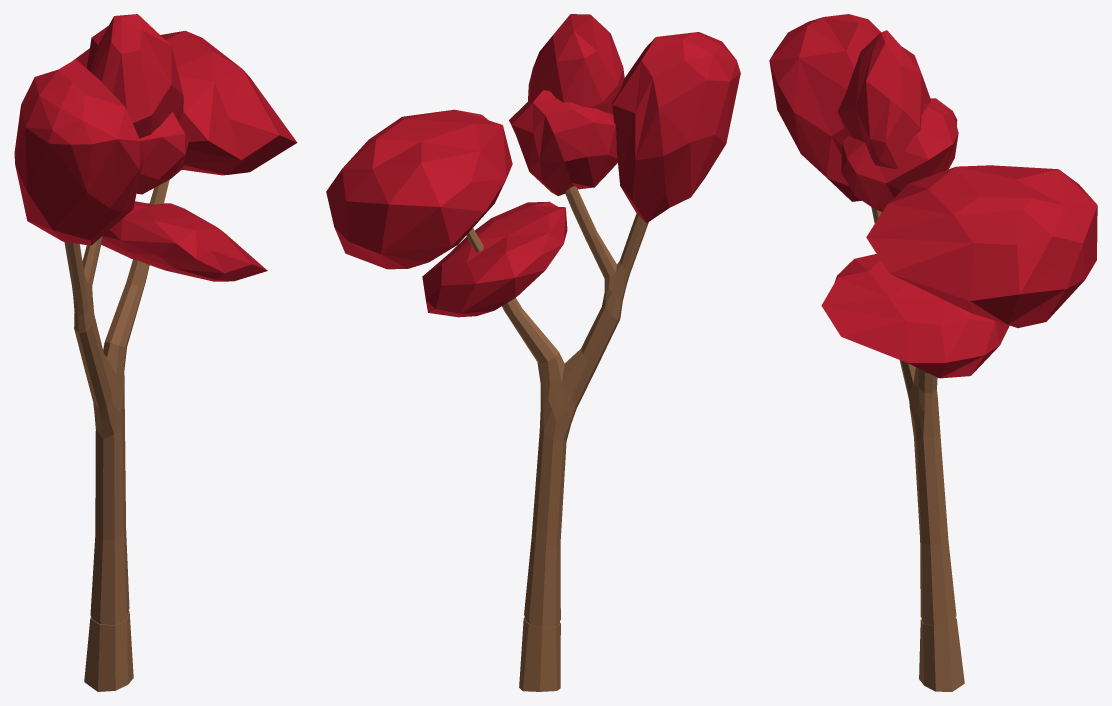
The model's file is tree-dead-complete-6-010.glb.
The picture shows the model from 3 angles, left to right: view 1: azimuth 30°, elevation 25°; view 2: azimuth 150°, elevation 25°; view 3: azimuth 270°, elevation 25°; orthographic projection. The views are drawn at different scales.
Visible parts, largest first — view 1: TREE 6.007_516, TREE 6.006_517; view 2: TREE 6.007_516, TREE 6.006_517; view 3: TREE 6.007_516, TREE 6.006_517.
Part boxes in pixels (bbox=[...]): TREE 6.007_516: bbox=[14, 14, 297, 281]; TREE 6.006_517: bbox=[64, 180, 169, 691]; TREE 6.007_516: bbox=[326, 14, 740, 317]; TREE 6.006_517: bbox=[466, 186, 648, 691]; TREE 6.007_516: bbox=[769, 14, 1097, 378]; TREE 6.006_517: bbox=[871, 207, 964, 691].
Size of the model in its own units: 0.9337 by 1.9 by 0.8774.
